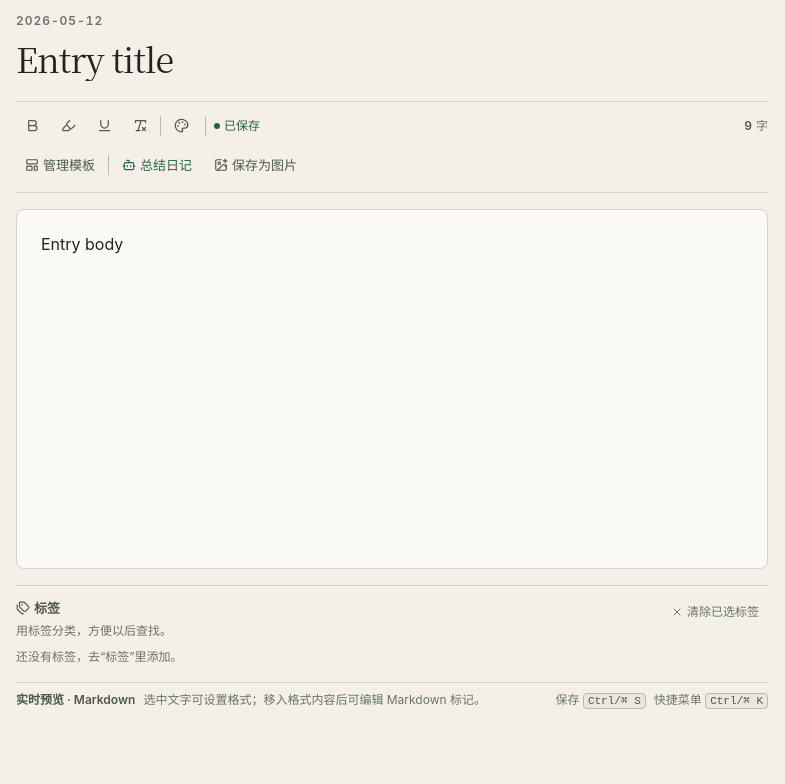
Scenario: Editor AI summary request › exposes the generated AI summary through a native disclosure control
What coordinates should you click on to do the following:
click the button "总结日记"
I would click on:
 (157, 165)
Its box is x1=113 y1=150 x2=201 y2=180.
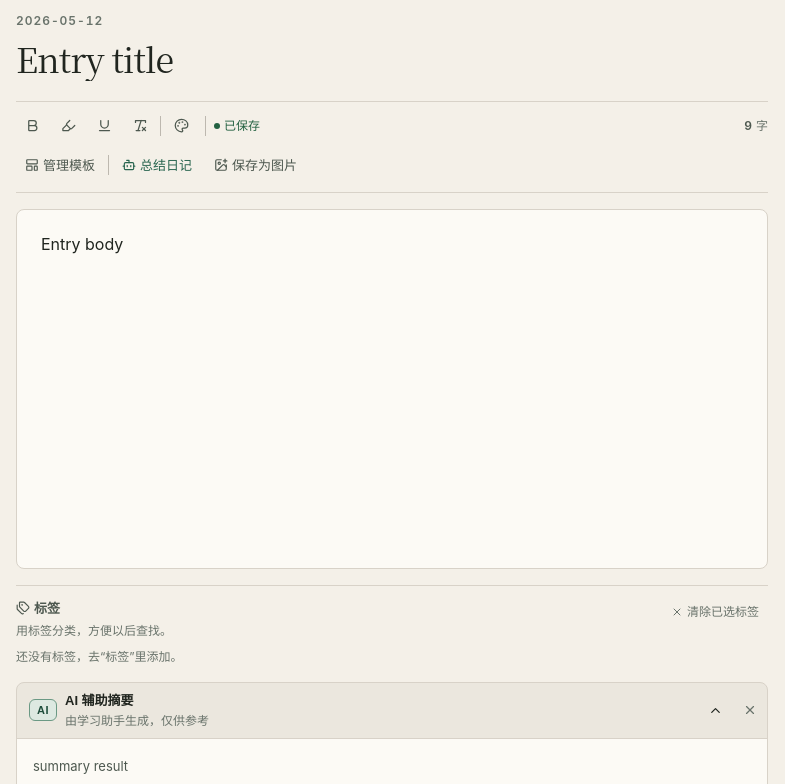
Expected: the text "summary result" is shown, x1=33 y1=758 x2=128 y2=774
What coordinates should you click on to do the following:
click the button "AI AI 辅助摘要 由学习助手生成，仅供参考"
I would click on:
 (99, 700)
Its box is x1=17 y1=683 x2=735 y2=738.
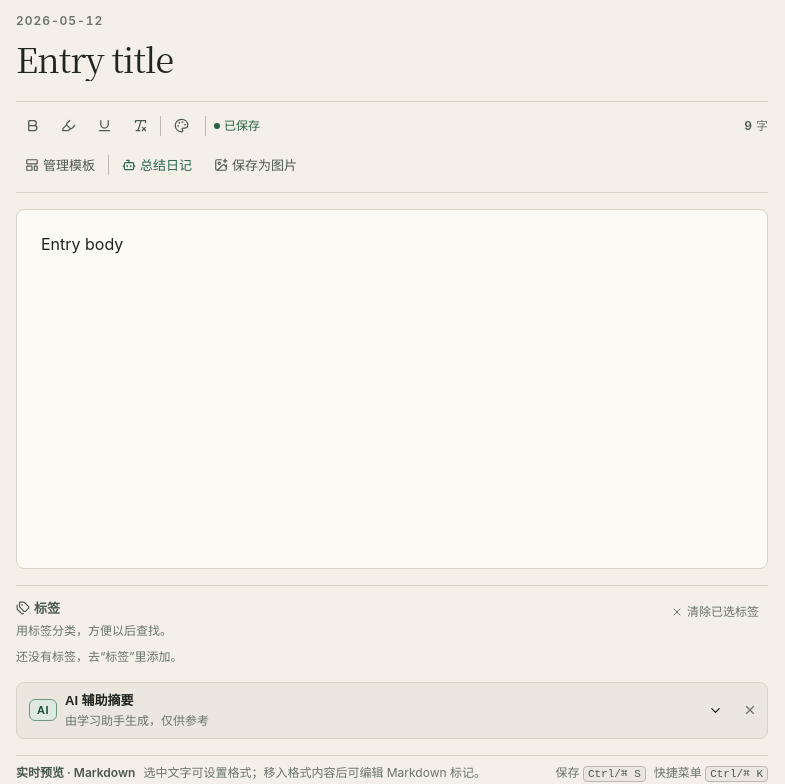
Expected: the button "AI AI 辅助摘要 由学习助手生成，仅供参考" is collapsed, x1=17 y1=683 x2=735 y2=738
Expected: the text "summary result" is gone
